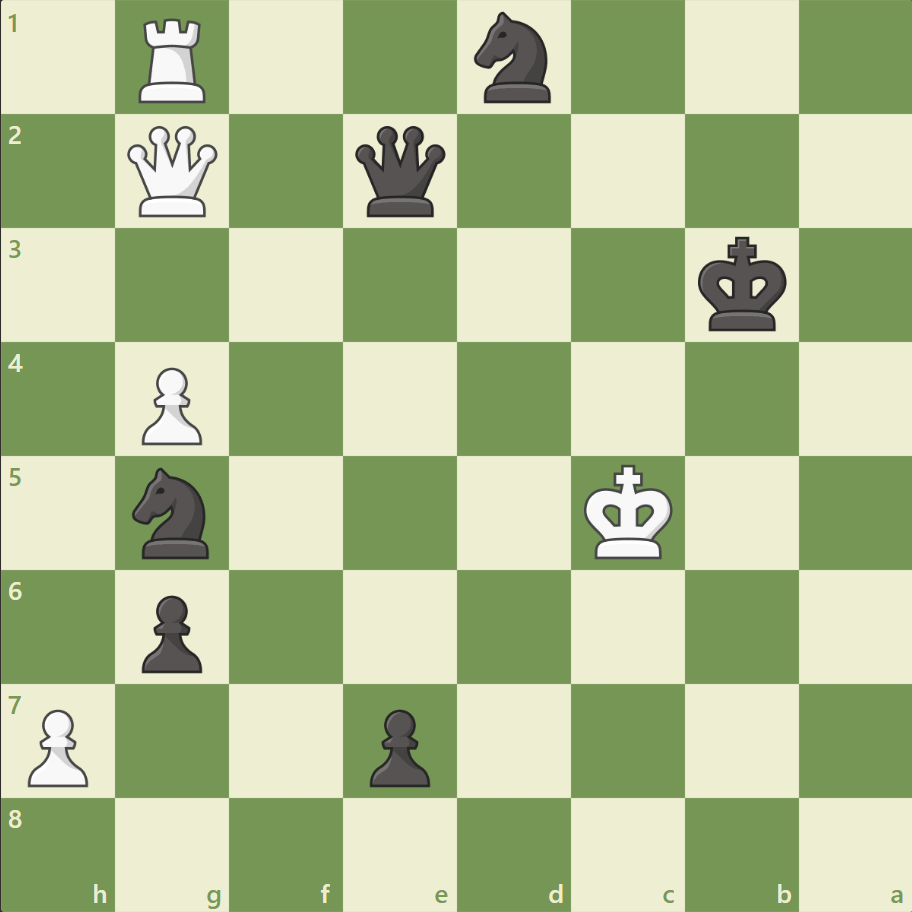K: (579, 458, 679, 566)
P: (20, 700, 95, 791), (133, 359, 208, 450)
Q: (124, 122, 223, 222)
R: (133, 12, 215, 109)
k: (692, 231, 792, 339)
n: (124, 461, 222, 564), (465, 7, 562, 110)
p: (133, 586, 208, 677), (361, 700, 435, 791)
q: (351, 122, 450, 222)
